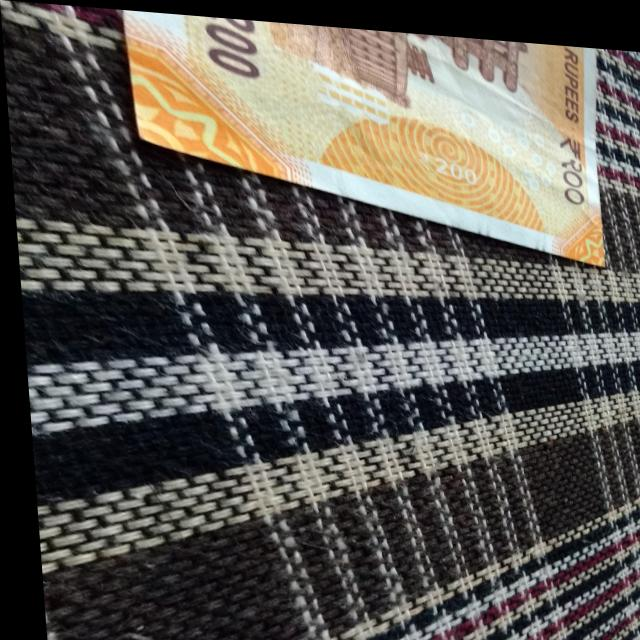Currency: (103, 7, 626, 255)
